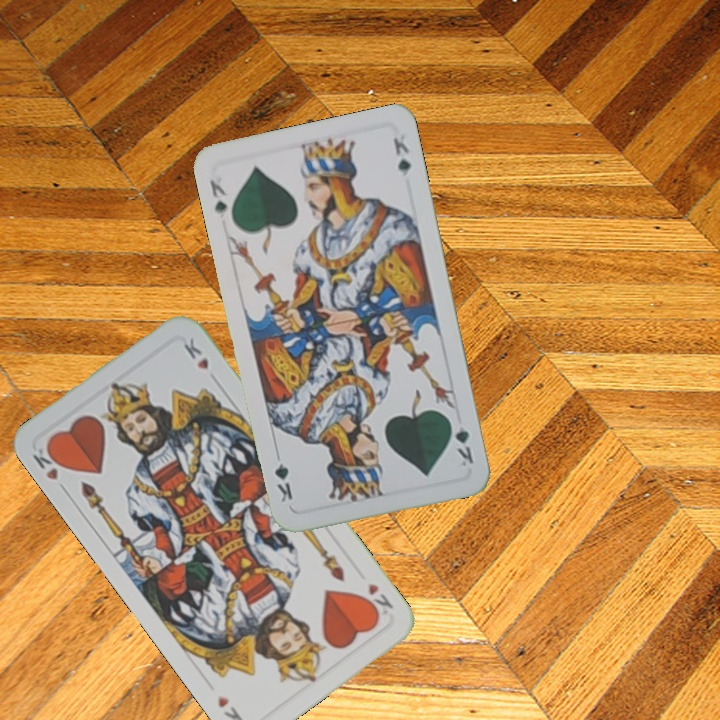GK: (445, 414, 476, 469), (205, 175, 230, 217)
HK: (28, 439, 70, 496), (358, 578, 396, 620)
